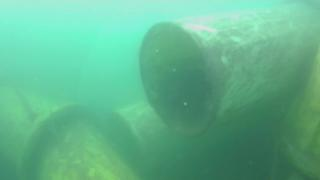pipe: (138, 1, 320, 139), (111, 98, 273, 175), (1, 81, 89, 179), (33, 114, 141, 180), (273, 46, 320, 179)
